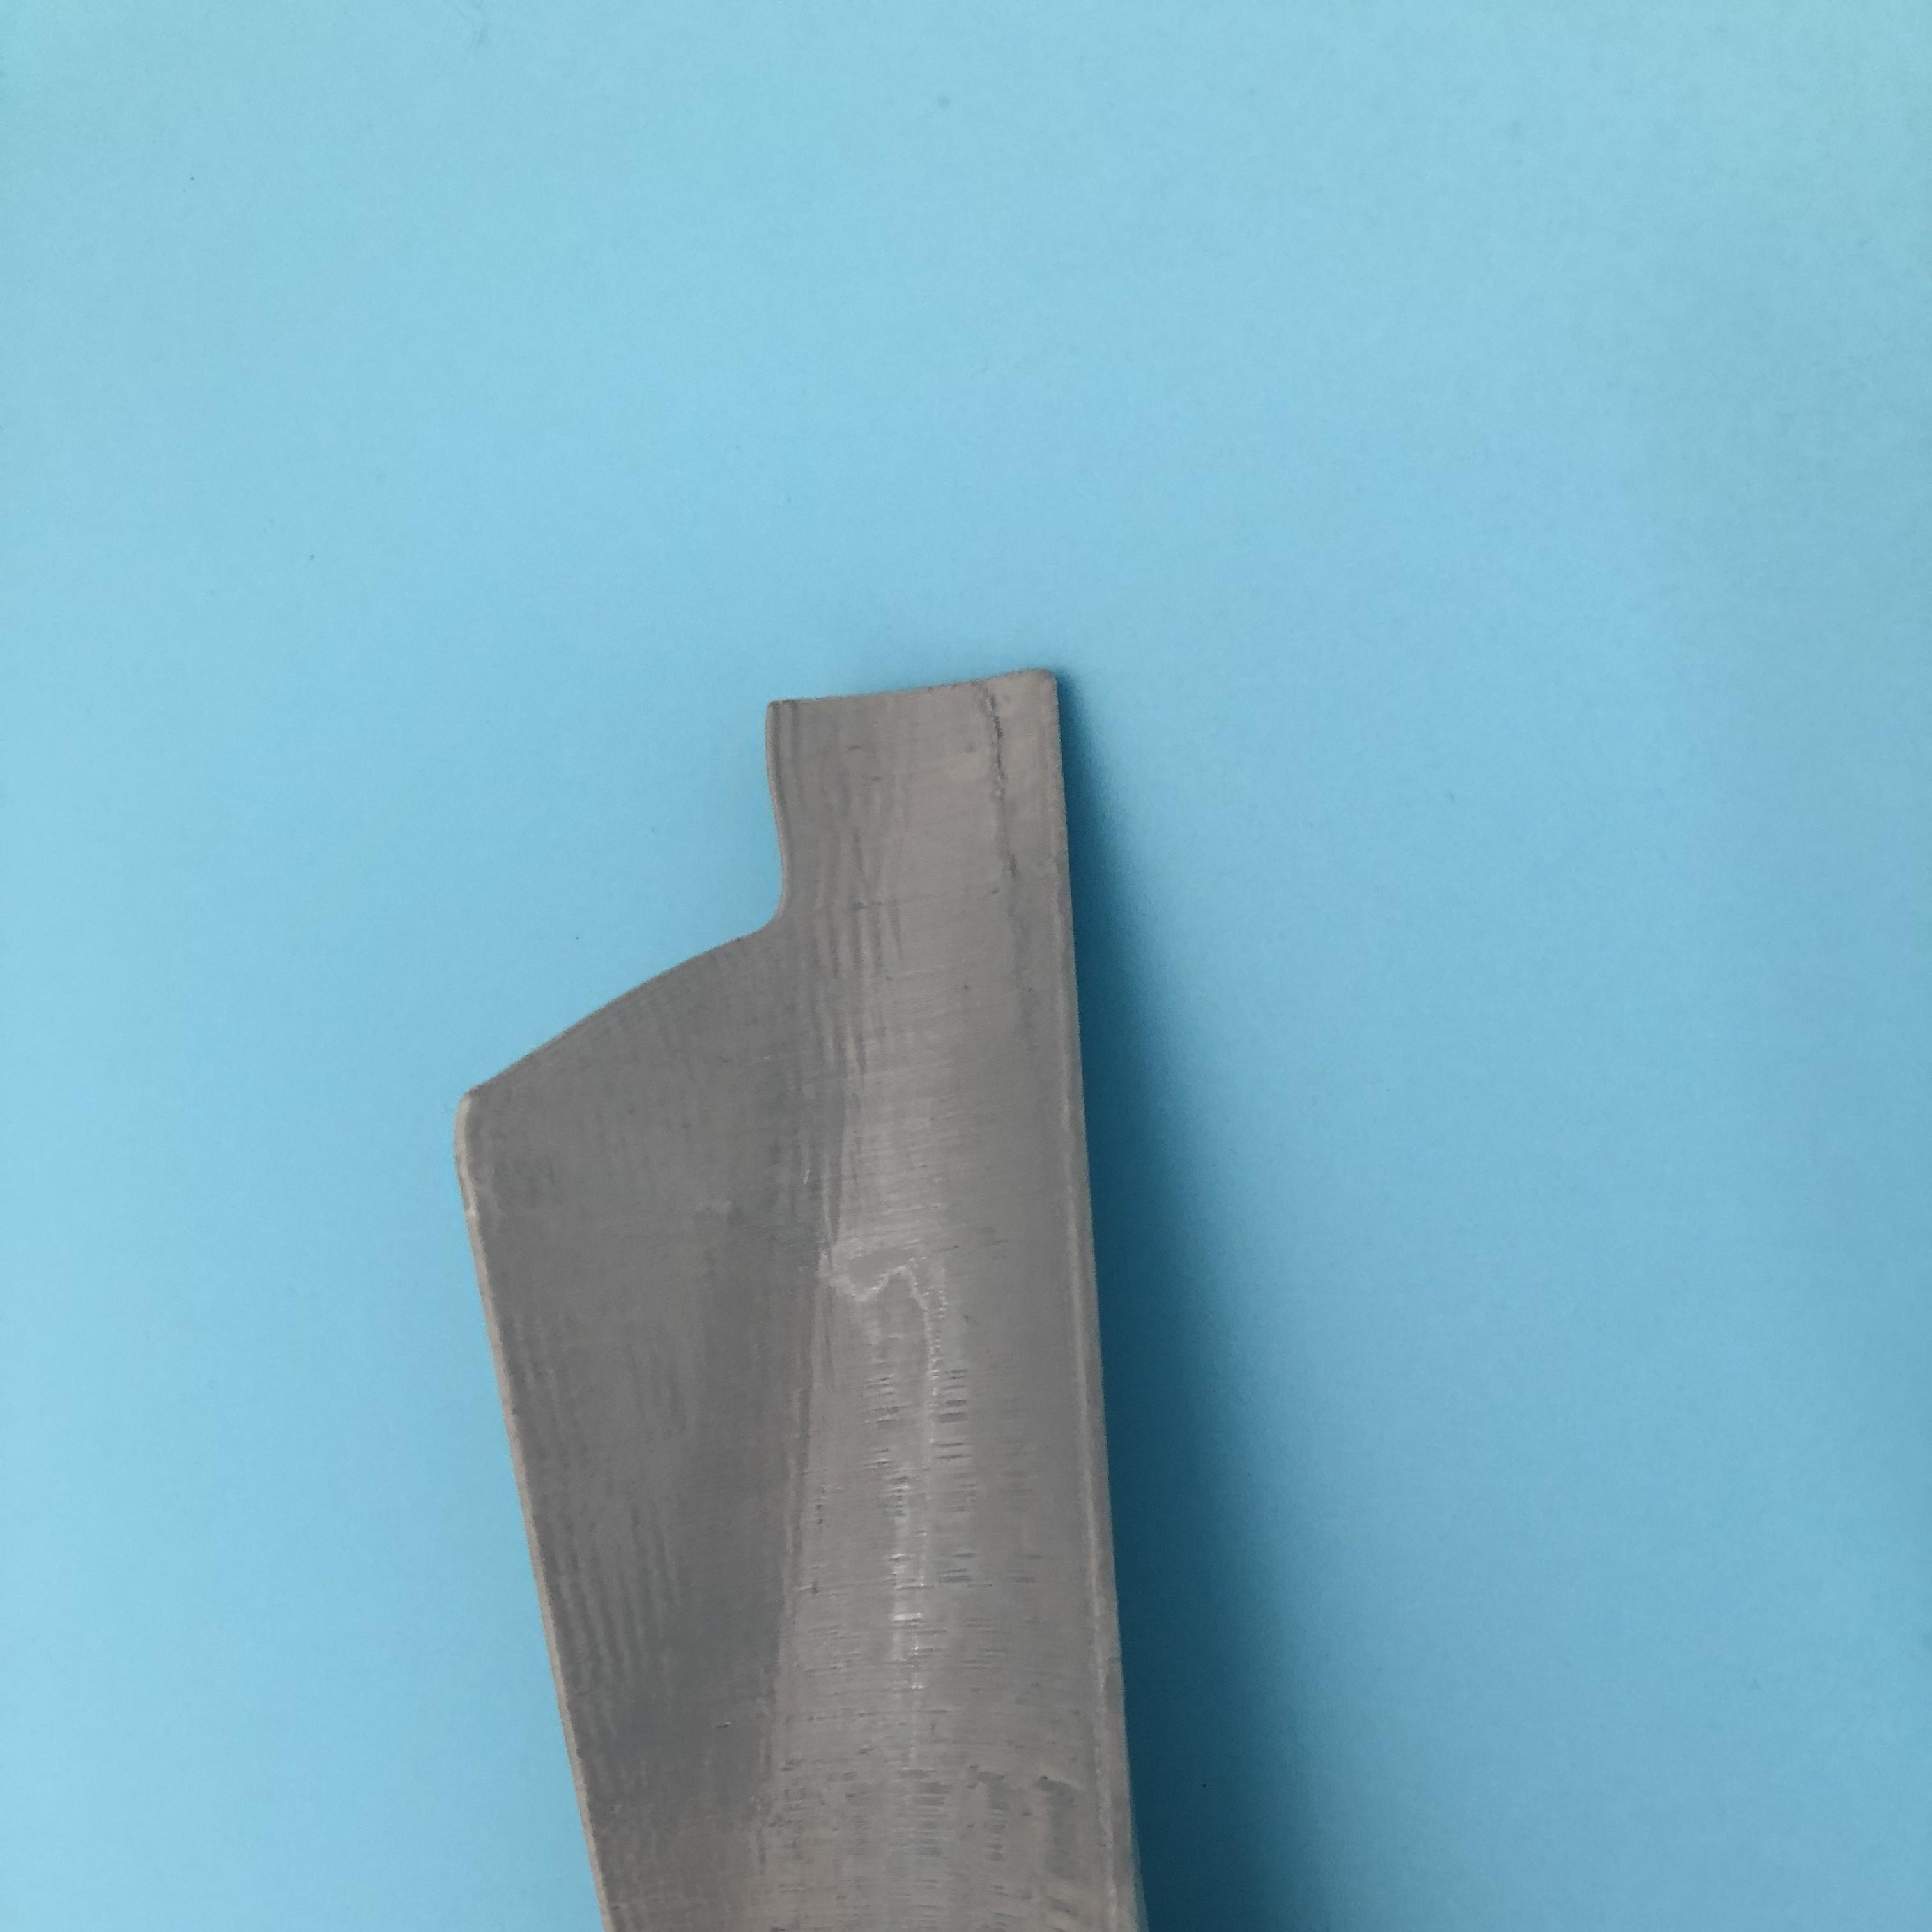fracture: (517, 778, 867, 1046)
